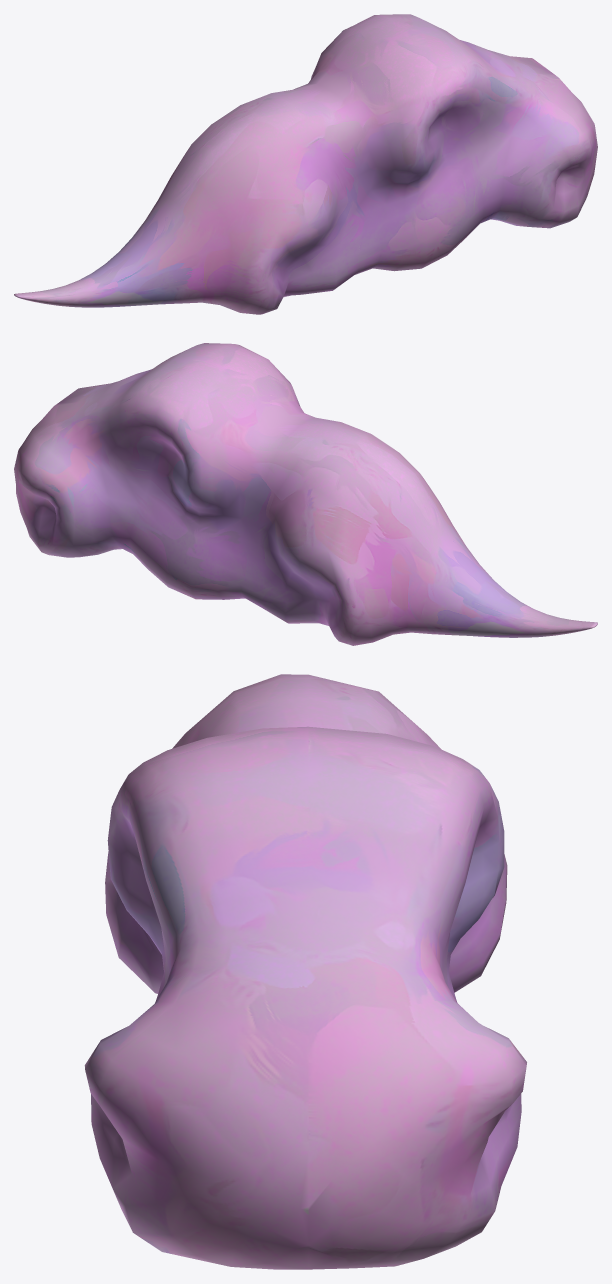
File: NUBE.glb
The picture shows the model from 3 angles, top to bottom: view 1: azimuth 30°, elevation 25°; view 2: azimuth 150°, elevation 25°; view 3: azimuth 270°, elevation 25°; orthographic projection. The views are drawn at different scales.
Parts seen in each view (by area): view 1: Retopo__gltfNode_0.002; view 2: Retopo__gltfNode_0.002; view 3: Retopo__gltfNode_0.002.
Boxes of the visible parts, x1,y1,x2,y2 form: Retopo__gltfNode_0.002: [14, 14, 597, 314]; Retopo__gltfNode_0.002: [14, 343, 597, 645]; Retopo__gltfNode_0.002: [84, 674, 526, 1269].
Bounding box in the file's own units: 4.17 × 1.57 × 1.4.
1 material, 1 textured.
